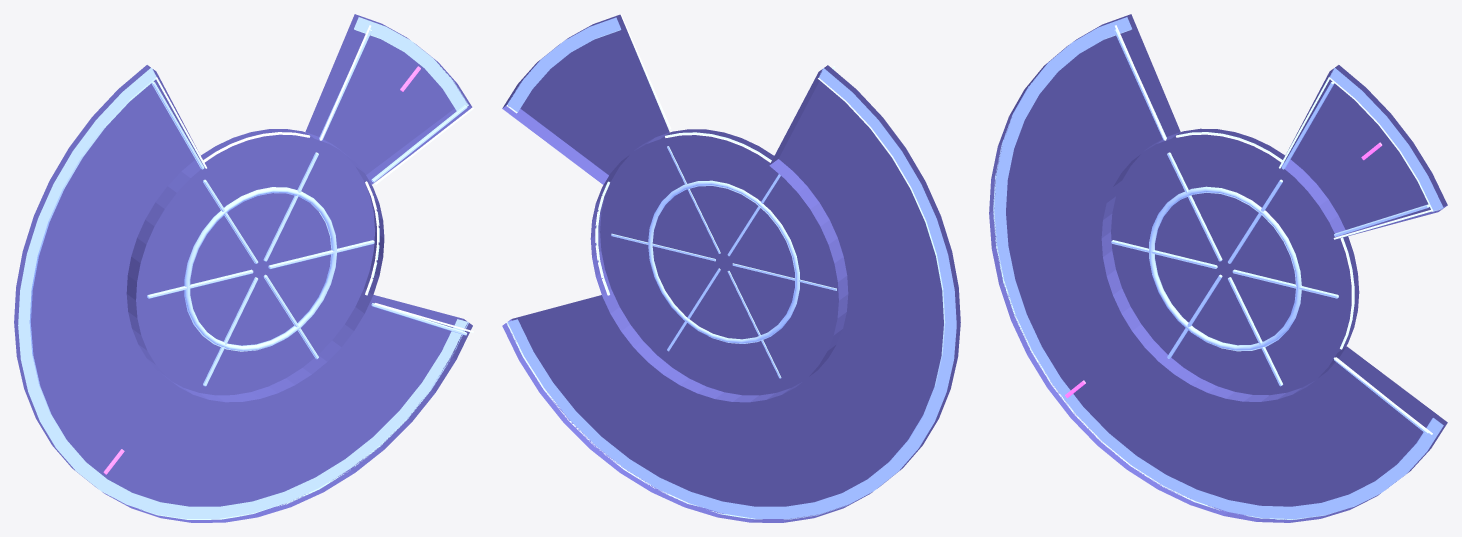
File: prism-panel-fun5-medium.glb
3 views of the same model, side by side, from view 1: azimuth 30°, elevation 25°; view 2: azimuth 150°, elevation 25°; view 3: azimuth 330°, elevation 25° (orthographic).
Parts seen in each view (by area): view 1: RENDER_PANEL_SHELL, RENDER_PANEL_FRAME, RENDER_PANEL_SIGNAL; view 2: RENDER_PANEL_SHELL, RENDER_PANEL_FRAME, RENDER_PANEL_SIGNAL; view 3: RENDER_PANEL_SHELL, RENDER_PANEL_FRAME, RENDER_PANEL_SIGNAL.
Part boxes in pixels (x1,y1,x2,y2): RENDER_PANEL_SHELL: (14,14,472,522); RENDER_PANEL_FRAME: (18,17,468,519); RENDER_PANEL_SIGNAL: (155,25,473,332); RENDER_PANEL_SHELL: (502,14,960,522); RENDER_PANEL_FRAME: (506,17,956,519); RENDER_PANEL_SIGNAL: (595,14,834,295); RENDER_PANEL_SHELL: (989,14,1447,522); RENDER_PANEL_FRAME: (993,17,1443,519); RENDER_PANEL_SIGNAL: (1115,25,1432,434).
Size of what is drawn, in the model's own units: 38.92 by 38.92 by 1.95.
